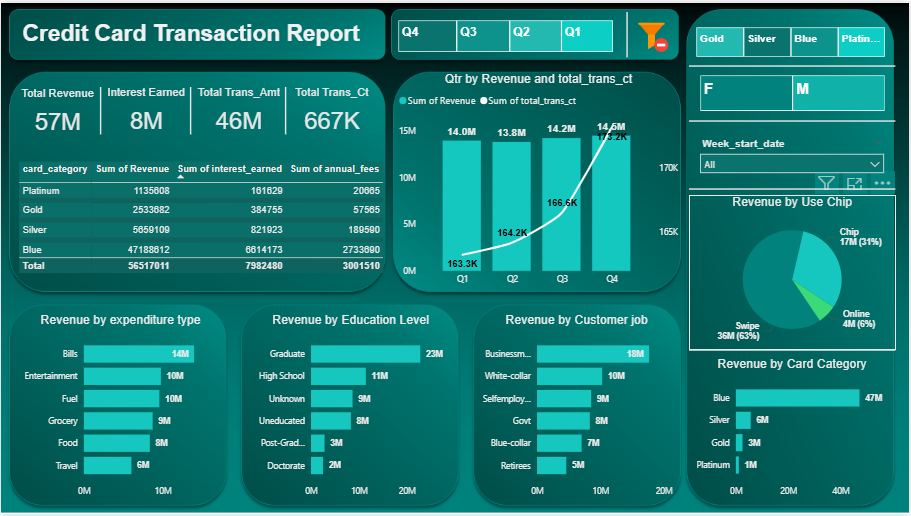

Layout of this report page (visuals, bound fields, positions):
{"tool":"powerbi","page":{"name":"CC_Trans_Repoet","canvas":[1280,720],"ordinal":1},"visuals":[{"type":"textbox","box":[9.9,19.8,515.9,53.9],"z":0},{"type":"lineStackedColumnComboChart","title":"Qtr by Revenue and total_trans_ct","fields":{"Category":["public cc_detail.qtr"],"Y":["Sum(public cc_detail.Revenue)"],"Y2":["Sum(public cc_detail.total_trans_ct)"]},"box":[555.6,97.8,403.9,310.4],"z":1000},{"type":"tableEx","fields":{"Values":["public cc_detail.card_category","Sum(public cc_detail.Revenue)","Sum(public cc_detail.interest_earned)","Sum(public cc_detail.annual_fees)"]},"box":[19.8,218.3,535.7,189.9],"z":2000},{"type":"clusteredBarChart","title":"Revenue by expenditure type","fields":{"Y":["Sum(public cc_detail.Revenue)"],"Category":["public cc_detail.exp_type"]},"box":[19.8,436.5,297.6,269.3],"z":3000},{"type":"clusteredBarChart","title":"Revenue by Education Level","fields":{"Y":["Sum(public cc_detail.Revenue)"],"Category":["public cust_detail.education_level"]},"box":[343,436.5,297.6,269.3],"z":4000},{"type":"clusteredBarChart","title":"Revenue by Customer job","fields":{"Y":["Sum(public cc_detail.Revenue)"],"Category":["public cust_detail.customer_job"]},"box":[661.9,436.5,297.6,269.3],"z":5000},{"type":"clusteredBarChart","title":"Revenue by Card Category","fields":{"Y":["Sum(public cc_detail.Revenue)"],"Category":["public cc_detail.card_category"]},"box":[969.4,498.9,290.6,206.9],"z":6000},{"type":"pieChart","title":"Revenue by Use Chip","fields":{"Category":["public cc_detail.use_chip"],"Y":["Sum(public cc_detail.Revenue)"]},"box":[969.4,270.7,290.6,218.3],"z":7000},{"type":"card","title":"Total Revenue","fields":{"Values":["Sum(public cc_detail.Revenue)"]},"box":[19.8,117.6,120.5,79.4],"z":8000},{"type":"card","title":"Interest Earned","fields":{"Values":["Sum(public cc_detail.interest_earned)"]},"box":[140.8,117.6,127.7,79.8],"z":9000},{"type":"card","title":"Total Trans_Amt","fields":{"Values":["Sum(public cc_detail.total_trans_amt)"]},"box":[268.5,117.6,132.1,79.8],"z":10000},{"type":"card","title":"Total Trans_Ct","fields":{"Values":["Sum(public cc_detail.total_trans_ct)"]},"box":[400.5,117.6,132.1,79.8],"z":11000},{"type":"shape","box":[969.4,480.5,290.6,17],"z":12000},{"type":"shape","box":[969.4,253.7,290.6,17],"z":13000},{"type":"slicer","fields":{"Values":["public cc_detail.week_start_date"]},"box":[975.1,184.3,279.2,68],"z":14000},{"type":"treemap","fields":{"Group":["public cc_detail.qtr"],"Values":["Avg(public cc_detail.client_num)"]},"box":[555.6,19.8,311.8,53.9],"z":15000},{"type":"treemap","fields":{"Group":["public cust_detail.gender"],"Values":["Avg(public cc_detail.client_num)"]},"box":[980.8,97.8,269.3,59.5],"z":16000},{"type":"shape","box":[969.4,157.3,290.6,17],"z":17000},{"type":"shape","box":[969.4,80.8,290.6,17],"z":18000},{"type":"treemap","fields":{"Group":["public cc_detail.card_category"],"Values":["Avg(public cc_detail.client_num)"]},"box":[975.1,29.8,275,51],"z":19000},{"type":"image","box":[881.6,17,68,56.7],"z":20000},{"type":"shape","box":[867.4,12.8,28.3,63.8],"z":21000},{"type":"shape","box":[375.6,117.6,49.6,66.6],"z":22000},{"type":"shape","box":[242.4,117.6,49.6,66.6],"z":23000},{"type":"shape","box":[114.8,117.6,49.6,66.6],"z":24000}]}

Visuals, with their boxes in screenshot pixels (x1, y1, x2, y2), scaled from the page's 1280x720 canvas onto the 911x516 screenshot:
textbox: 7:14:374:53
"Qtr by Revenue and total_trans_ct" lineStackedColumnComboChart: 395:70:683:293
tableEx - public cc_detail.card_category x Sum(public cc_detail.Revenue): 14:156:395:293
"Revenue by expenditure type" clusteredBarChart: 14:313:226:506
"Revenue by Education Level" clusteredBarChart: 244:313:456:506
"Revenue by Customer job" clusteredBarChart: 471:313:683:506
"Revenue by Card Category" clusteredBarChart: 690:358:897:506
"Revenue by Use Chip" pieChart: 690:194:897:350
"Total Revenue" card: 14:84:100:141
"Interest Earned" card: 100:84:191:141
"Total Trans_Amt" card: 191:84:285:141
"Total Trans_Ct" card: 285:84:379:141
shape: 690:344:897:357
shape: 690:182:897:194
slicer - public cc_detail.week_start_date: 694:132:893:181
treemap - public cc_detail.qtr x Avg(public cc_detail.client_num): 395:14:617:53
treemap - public cust_detail.gender x Avg(public cc_detail.client_num): 698:70:890:113
shape: 690:113:897:125
shape: 690:58:897:70
treemap - public cc_detail.card_category x Avg(public cc_detail.client_num): 694:21:890:58
image: 627:12:676:53
shape: 617:9:637:55
shape: 267:84:303:132
shape: 173:84:208:132
shape: 82:84:117:132
